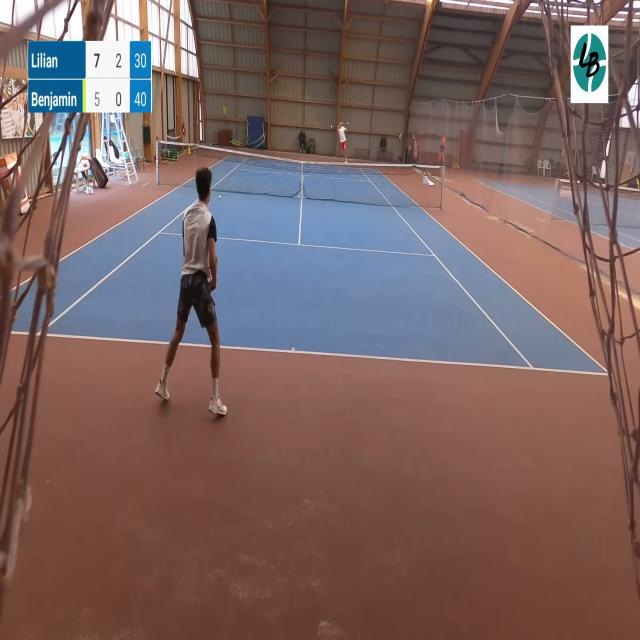ball: (218, 194, 221, 200), (330, 125, 333, 128)
